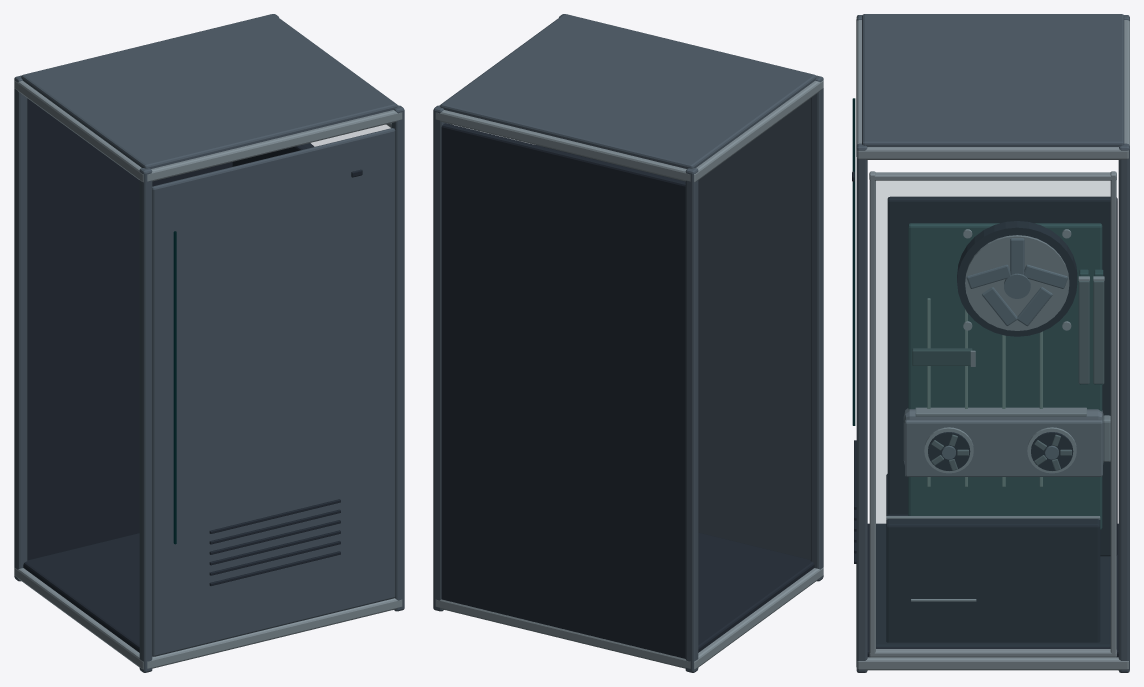
Rendered from CORE-01-prototype.glb.
The picture shows the model from 3 angles, left to right: view 1: azimuth 30°, elevation 25°; view 2: azimuth 150°, elevation 25°; view 3: azimuth 270°, elevation 25°; orthographic projection. The views are drawn at different scales.
Parts seen in each view (by area): view 1: CHASSIS | front panel, CHASSIS | back panel, CHASSIS | top shell, CHASSIS | base floor, CHASSIS | vertical corner, CHASSIS | vertical corner.001, CHASSIS | vertical corner.002, CHASSIS | horizontal X rail.002, CHASSIS | horizontal X rail, CHASSIS | horizontal Y rail, CHASSIS | horizontal Y rail.002, POWER | one vertical cyan indicator; view 2: CHASSIS | back panel, CHASSIS | front panel, CHASSIS | top shell, CHASSIS | base floor, CHASSIS | vertical corner.001, CHASSIS | vertical corner, CHASSIS | vertical corner.003, CHASSIS | horizontal X rail.003, CHASSIS | horizontal X rail.001, CHASSIS | horizontal Y rail, CHASSIS | horizontal Y rail.002; view 3: GLASS | smoked right panel, CHASSIS | top shell, MOTHERBOARD | PCB, CHASSIS | PSU bottom cover, MOTHERBOARD | tray, GPU | unified fan shroud, CHASSIS | vertical corner.002, CHASSIS | vertical corner.003, COOLING | ring, CHASSIS | base floor, CHASSIS | horizontal Y rail.001, CHASSIS | horizontal Y rail.003 (+24 smaller).
Boxes of the visible parts, x1,y1,x2,y2 form: CHASSIS | front panel: (152,128,395,656); CHASSIS | back panel: (27,98,232,560); CHASSIS | top shell: (21,14,397,168); CHASSIS | base floor: (23,533,139,652); CHASSIS | vertical corner: (139,168,152,672); CHASSIS | vertical corner.001: (14,75,27,581); CHASSIS | vertical corner.002: (391,105,404,611); CHASSIS | horizontal X rail.002: (147,110,402,181); CHASSIS | horizontal X rail: (147,598,402,668); CHASSIS | horizontal Y rail: (14,567,143,669); CHASSIS | horizontal Y rail.002: (14,80,143,182); POWER | one vertical cyan indicator: (173,231,176,544); CHASSIS | back panel: (441,123,685,658); CHASSIS | front panel: (596,98,810,559); CHASSIS | top shell: (440,14,816,168); CHASSIS | base floor: (698,532,814,652); CHASSIS | vertical corner.001: (685,168,698,672); CHASSIS | vertical corner: (810,75,823,581); CHASSIS | vertical corner.003: (433,105,445,611); CHASSIS | horizontal X rail.003: (435,110,690,181); CHASSIS | horizontal X rail.001: (435,599,690,668); CHASSIS | horizontal Y rail: (694,567,823,669); CHASSIS | horizontal Y rail.002: (694,80,823,182); GLASS | smoked right panel: (876,181,1110,646); CHASSIS | top shell: (862,14,1124,146); MOTHERBOARD | PCB: (908,223,1102,529); CHASSIS | PSU bottom cover: (886,474,1100,642); MOTHERBOARD | tray: (887,196,1117,556); GPU | unified fan shroud: (905,419,1102,476); CHASSIS | vertical corner.002: (856,143,867,672); CHASSIS | vertical corner.003: (1118,143,1129,672); COOLING | ring: (965,235,1069,330); CHASSIS | base floor: (867,523,1118,657); CHASSIS | horizontal Y rail.001: (857,657,1128,670); CHASSIS | horizontal Y rail.003: (857,147,1128,159).
Size of the model in its own units: 2.42 by 4.37 by 2.08.
